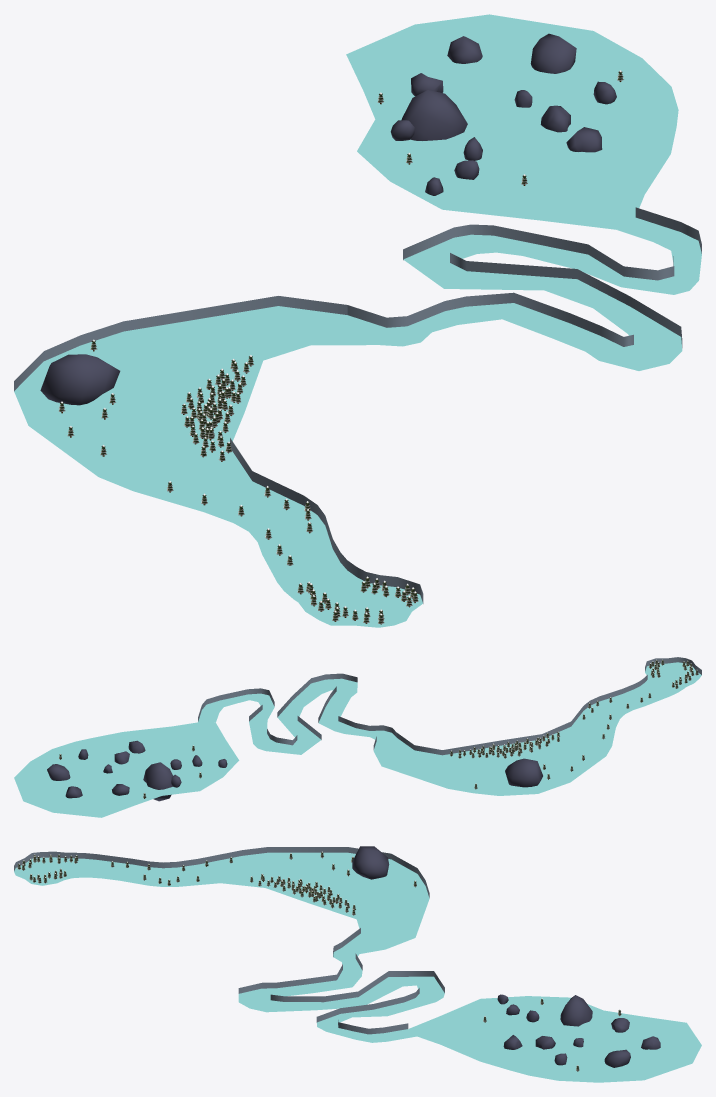
Rendered from freezemap.glb.
3 views of the same model, one above another, from view 1: azimuth 30°, elevation 25°; view 2: azimuth 150°, elevation 25°; view 3: azimuth 270°, elevation 25° (orthographic). The views are drawn at different scales.
Parts seen in each view (by area): view 1: ObstaclesZone -col.001, StartZone -col, VirageZone -col.002, wall -col.001, wall -col.002, Rock -col.012, Rock2 -col, Rock -col.007; view 2: ObstaclesZone -col.001, StartZone -col, VirageZone -col.002, wall -col.001, wall -col.002, Rock -col.012, Rock2 -col, Rock -col.007; view 3: ObstaclesZone -col.001, StartZone -col, VirageZone -col.002, wall -col.001, wall -col.002, Rock -col.012, Rock2 -col, Rock -col.007.
Part boxes in pixels (<box>): ObstaclesZone -col.001: <box>346,14,678,229</box>; StartZone -col: <box>14,306,422,627</box>; VirageZone -col.002: <box>348,217,701,370</box>; wall -col.001: <box>347,207,701,347</box>; wall -col.002: <box>14,296,423,603</box>; Rock -col.012: <box>40,354,120,405</box>; Rock2 -col: <box>401,90,467,140</box>; Rock -col.007: <box>530,33,576,73</box>; ObstaclesZone -col.001: <box>14,722,239,817</box>; StartZone -col: <box>373,662,701,795</box>; VirageZone -col.002: <box>198,678,396,754</box>; wall -col.001: <box>198,673,396,749</box>; wall -col.002: <box>396,657,701,755</box>; Rock -col.012: <box>505,758,542,787</box>; Rock2 -col: <box>143,762,172,801</box>; Rock -col.007: <box>47,764,70,780</box>; ObstaclesZone -col.001: <box>409,996,701,1082</box>; StartZone -col: <box>14,852,429,949</box>; VirageZone -col.002: <box>238,947,444,1042</box>; wall -col.001: <box>238,942,444,1034</box>; wall -col.002: <box>14,847,429,947</box>; Rock -col.012: <box>352,846,389,879</box>; Rock2 -col: <box>560,995,592,1026</box>; Rock -col.007: <box>604,1049,630,1067</box>.
Bounding box in the file's own units: 702 × 61.63 × 887.
5 materials, 1 textured.
